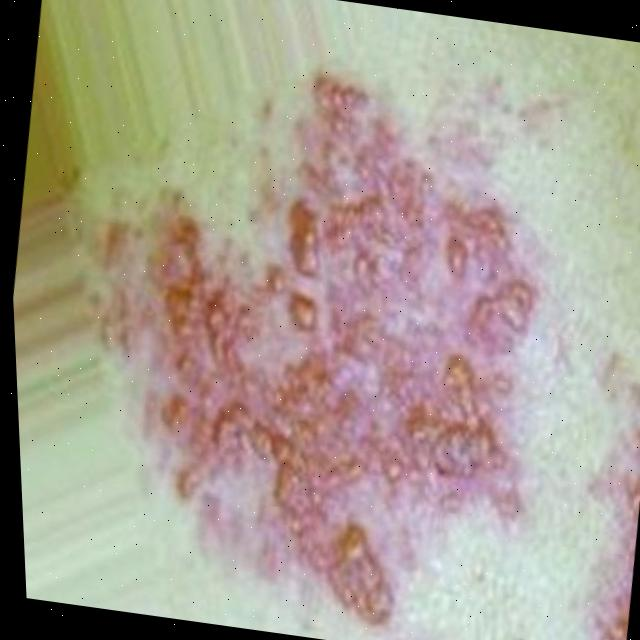Shingles: (90, 51, 583, 640)
